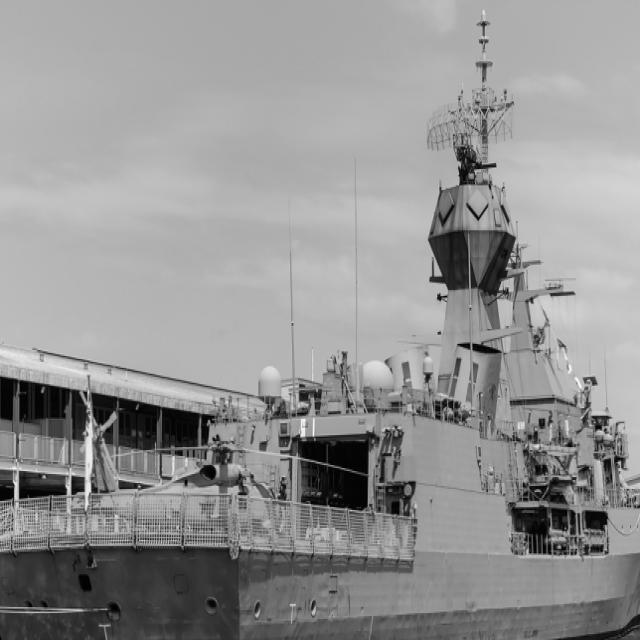Fragata: (1, 1, 640, 640)
